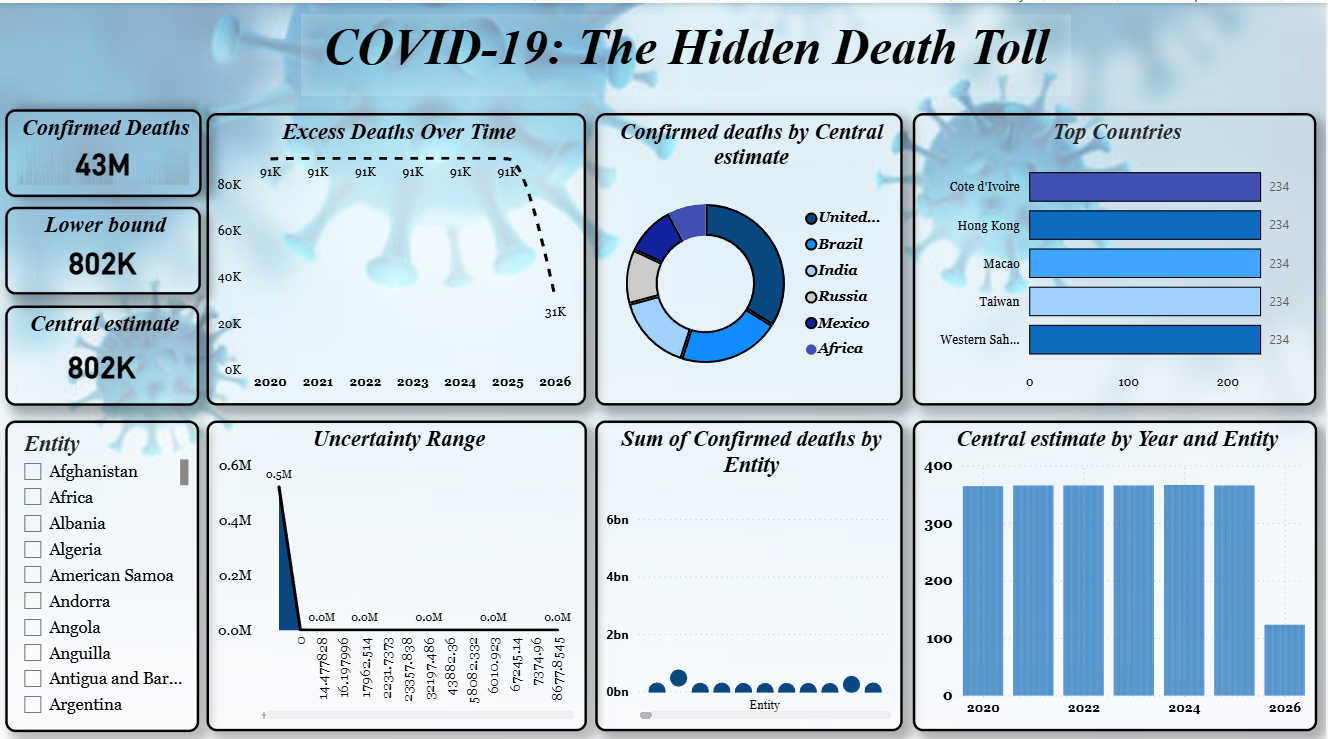

Layout of this report page (visuals, bound fields, positions):
{"tool":"powerbi","page":{"name":"Page 1","canvas":[1280,720],"ordinal":0},"visuals":[{"type":"kpi","title":"Confirmed Deaths","fields":{"Indicator":["Sum(excess-deaths-cumulative-economist-single-entity.Confirmed deaths)"],"TrendLine":["excess-deaths-cumulative-economist-single-entity.Confirmed deaths"]},"box":[6,102.5,189.4,84.5],"z":0},{"type":"kpi","title":"Central estimate","fields":{"TrendLine":["excess-deaths-cumulative-economist-single-entity.Central estimate"],"Indicator":["Sum(excess-deaths-cumulative-economist-single-entity.Confirmed deaths)"]},"box":[6,292,187,96.5],"z":1000},{"type":"kpi","title":"Lower bound","fields":{"Indicator":["Sum(excess-deaths-cumulative-economist-single-entity.Confirmed deaths)"],"TrendLine":["excess-deaths-cumulative-economist-single-entity.Lower bound"]},"box":[6.4,196.2,188.5,84.6],"z":2000},{"type":"textbox","box":[292.3,11,742.3,79.5],"z":3000},{"type":"lineChart","title":"Excess Deaths Over Time","fields":{"Y":["CountNonNull(excess-deaths-cumulative-economist-single-entity.Central estimate)"],"Category":["excess-deaths-cumulative-economist-single-entity.Day.Variation.Date Hierarchy.Year"]},"box":[200.3,106.2,366.8,282.3],"z":4000},{"type":"donutChart","title":"Confirmed deaths by Central estimate","fields":{"Category":["excess-deaths-cumulative-economist-single-entity.Entity"],"Y":["Sum(excess-deaths-cumulative-economist-single-entity.Confirmed deaths)"]},"box":[575.5,106.2,296.8,282.3],"z":5000},{"type":"slicer","fields":{"Values":["excess-deaths-cumulative-economist-single-entity.Entity"]},"box":[6,403,187,300.4],"z":6000},{"type":"clusteredBarChart","title":"Top Countries","fields":{"Category":["excess-deaths-cumulative-economist-single-entity.Entity"],"Y":["CountNonNull(excess-deaths-cumulative-economist-single-entity.Central estimate)"]},"box":[881.9,106.2,389.7,282.3],"z":7000},{"type":"areaChart","title":"Uncertainty Range","fields":{"Category":["excess-deaths-cumulative-economist-single-entity.Upper bound, 95% uncertainty interval"],"Y":["CountNonNull(excess-deaths-cumulative-economist-single-entity.Lower bound)"]},"box":[200,403,367,300],"z":8000},{"type":"scatterChart","fields":{"X":["excess-deaths-cumulative-economist-single-entity.Entity"],"Y":["Sum(excess-deaths-cumulative-economist-single-entity.Confirmed deaths)"]},"box":[575,403,297,300],"z":9000},{"type":"clusteredColumnChart","title":"Central estimate by Year and Entity","fields":{"Category":["excess-deaths-cumulative-economist-single-entity.Day.Variation.Date Hierarchy.Year"],"Y":["CountNonNull(excess-deaths-cumulative-economist-single-entity.Central estimate)"],"Series":["excess-deaths-cumulative-economist-single-entity.Entity"]},"box":[882,403,390,300],"z":10000}]}

Visuals, with their boxes in screenshot pixels (x1, y1, x2, y2), scaled from the page's 1280x720 canvas onto the 1328x739 screenshot:
"Confirmed Deaths" kpi: x1=6, y1=105, x2=203, y2=192
"Central estimate" kpi: x1=6, y1=300, x2=200, y2=399
"Lower bound" kpi: x1=7, y1=201, x2=202, y2=288
textbox: x1=303, y1=11, x2=1073, y2=93
"Excess Deaths Over Time" lineChart: x1=208, y1=109, x2=588, y2=399
"Confirmed deaths by Central estimate" donutChart: x1=597, y1=109, x2=905, y2=399
slicer - excess-deaths-cumulative-economist-single-entity.Entity: x1=6, y1=414, x2=200, y2=722
"Top Countries" clusteredBarChart: x1=915, y1=109, x2=1319, y2=399
"Uncertainty Range" areaChart: x1=208, y1=414, x2=588, y2=722
scatterChart - excess-deaths-cumulative-economist-single-entity.Entity x Sum(excess-deaths-cumulative-economist-single-entity.Confirmed deaths): x1=597, y1=414, x2=905, y2=722
"Central estimate by Year and Entity" clusteredColumnChart: x1=915, y1=414, x2=1320, y2=722
